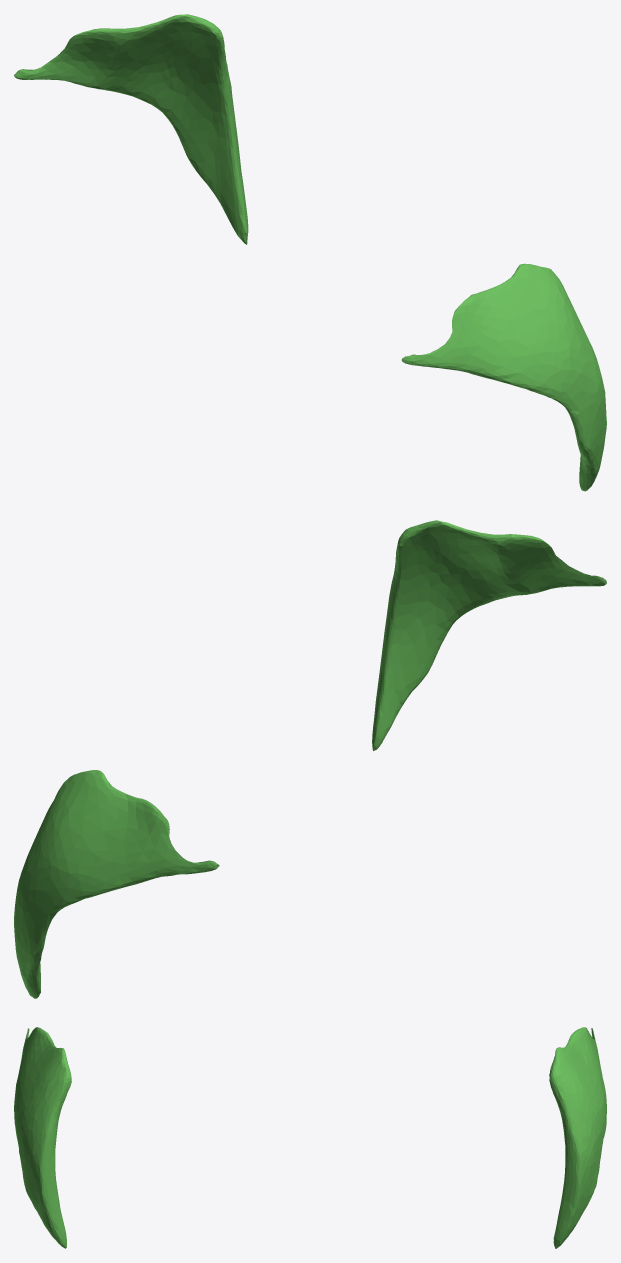
3 renders of one model, top to bottom at view 1: azimuth 30°, elevation 25°; view 2: azimuth 150°, elevation 25°; view 3: azimuth 270°, elevation 25°, orthographic. The views are drawn at different scales.
Visible parts, largest first — view 1: 28.obj; view 2: 28.obj; view 3: 28.obj.
Boxes of the visible parts, box(x1,y1,x2,y2) form: 28.obj: box(14, 14, 606, 491); 28.obj: box(14, 520, 606, 998); 28.obj: box(14, 1027, 606, 1248).
Bounding box in the file's own units: 2657 × 2886 × 8733.
